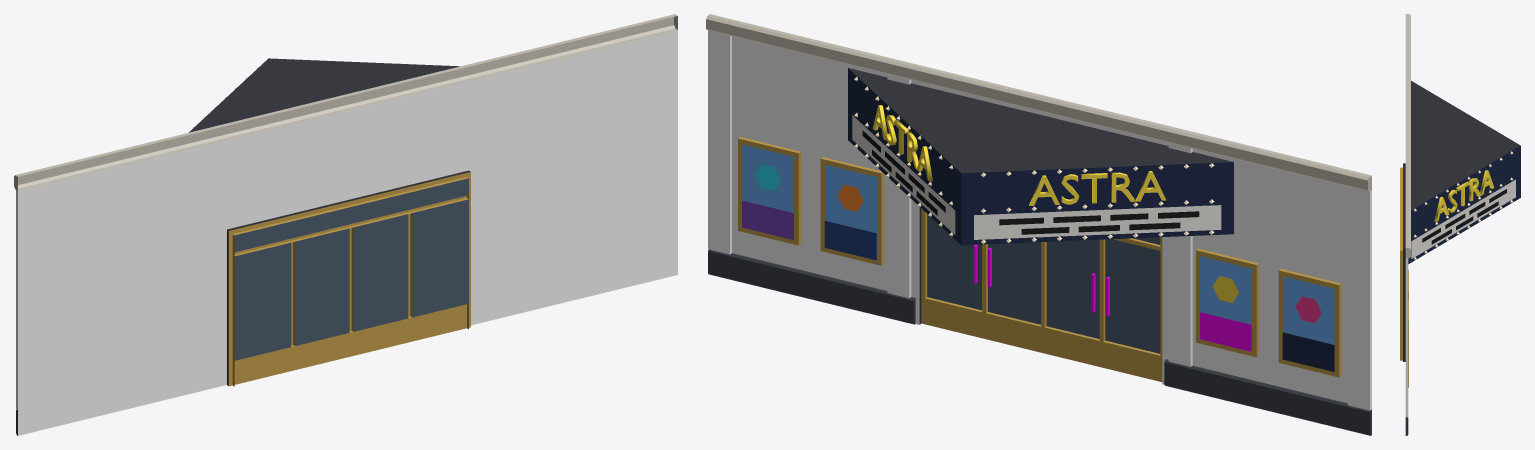
Rendered from front_cinema.glb.
The picture shows the model from 3 angles, left to right: view 1: azimuth 30°, elevation 25°; view 2: azimuth 150°, elevation 25°; view 3: azimuth 270°, elevation 25°; orthographic projection. The views are drawn at different scales.
Visible parts, largest first — view 1: front_cinema__mesh; view 2: front_cinema__mesh; view 3: front_cinema__mesh.
Part boxes in pixels (x1,y1,x2,y2): front_cinema__mesh: (14,14,677,435); front_cinema__mesh: (706,14,1371,435); front_cinema__mesh: (1400,14,1520,435).
Size of what is drawn, in the model's own units: 12 by 4.5 by 2.62.
Materials: 2 (1 with a texture image).
